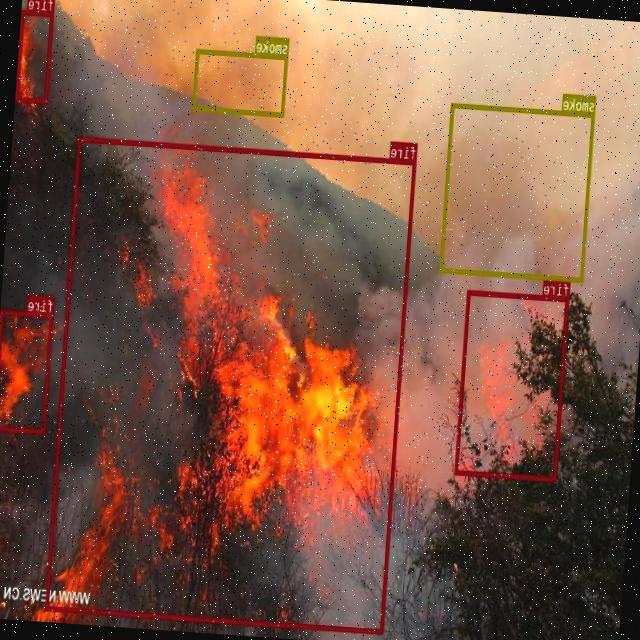fire: (46, 136, 417, 633), (455, 289, 570, 480), (0, 309, 53, 432), (16, 9, 54, 102)
smoke: (440, 101, 595, 282), (192, 48, 288, 117)
